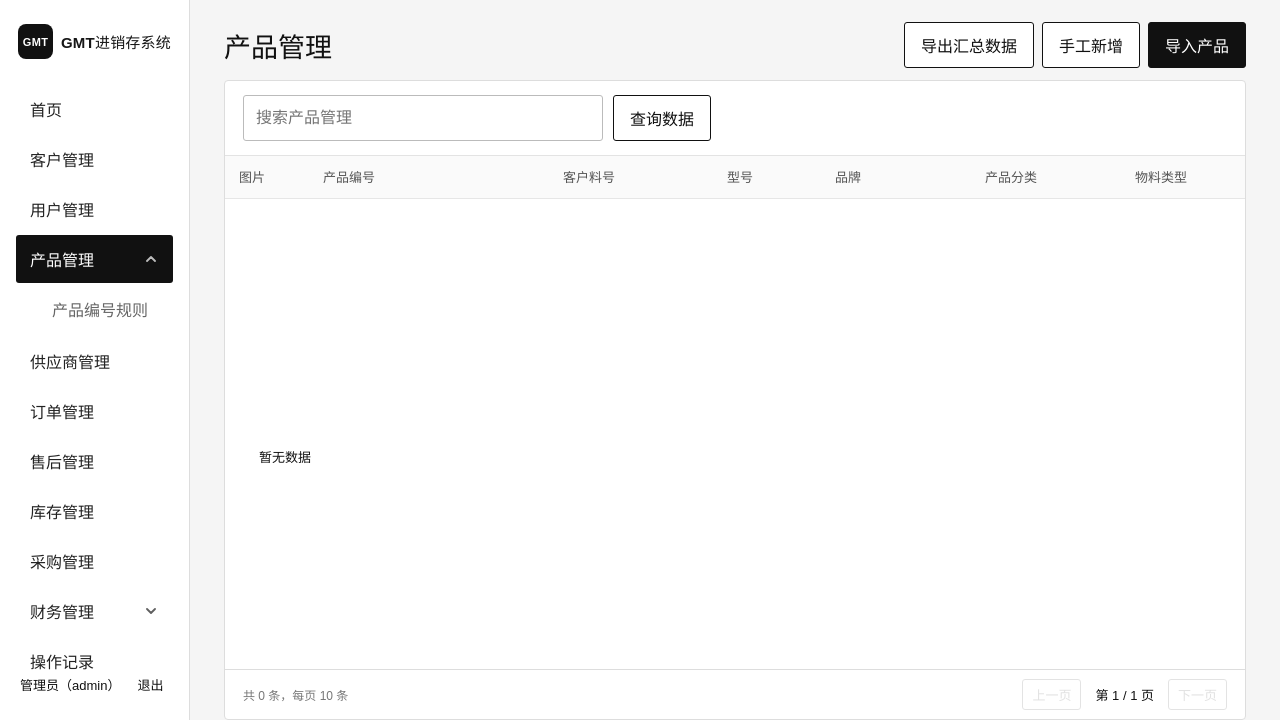
Test: 连续导航和浏览器地址状态 › 产品管理子菜单使用正常中文并打开可识别的编号规则页面
The width and height of the screenshot is (1280, 720).
Click the button with class "nav-subitem": (98, 309) [30,287,165,331]
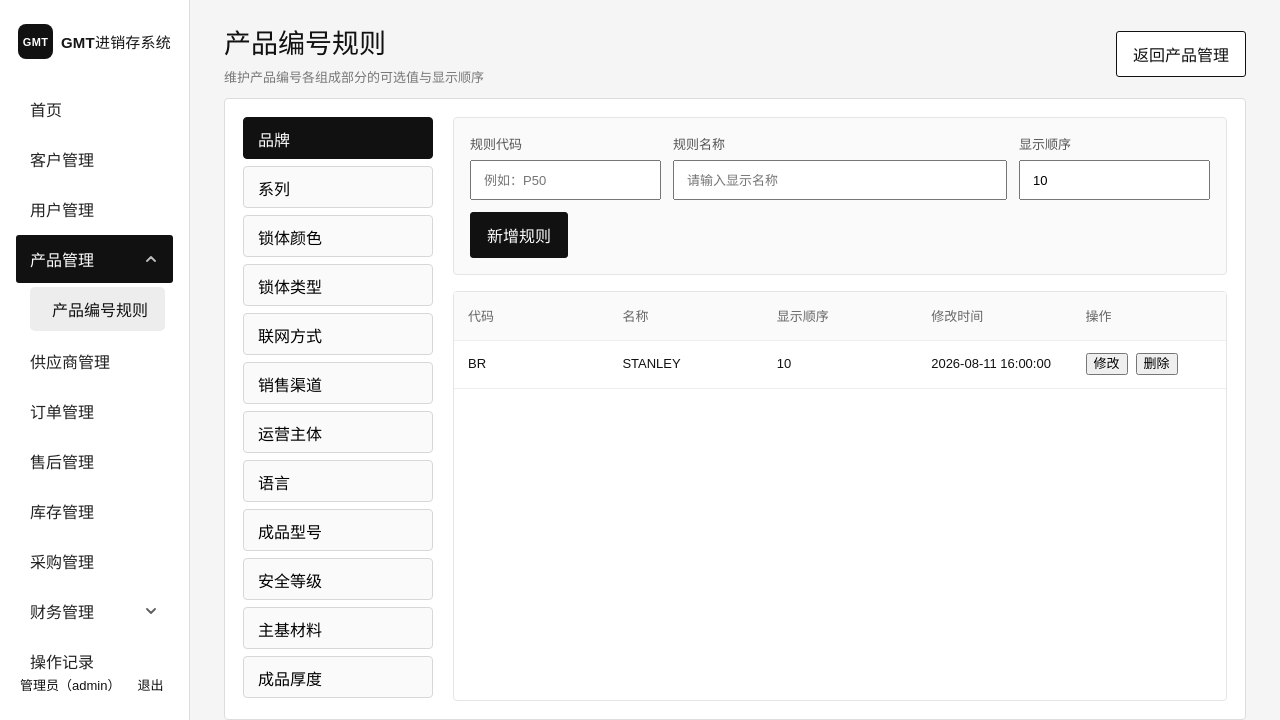
Expected: the heading "产品编号规则" is shown, [224,29,386,59]
Expected: the element that starts with "产品编号规则" shows "维护产品编号各组成部分的可选值与显示顺序", [224,70,484,85]
Expected: the label "规则代码" is shown, [470,134,661,200]
